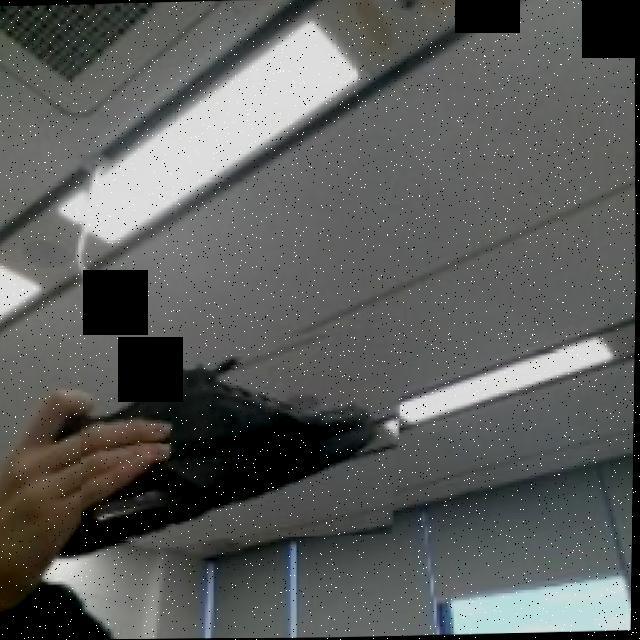shoe: (79, 321, 409, 542)
